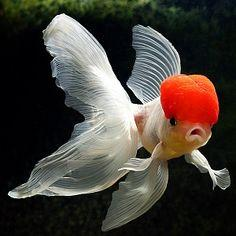goldfish: (44, 44, 226, 203)
